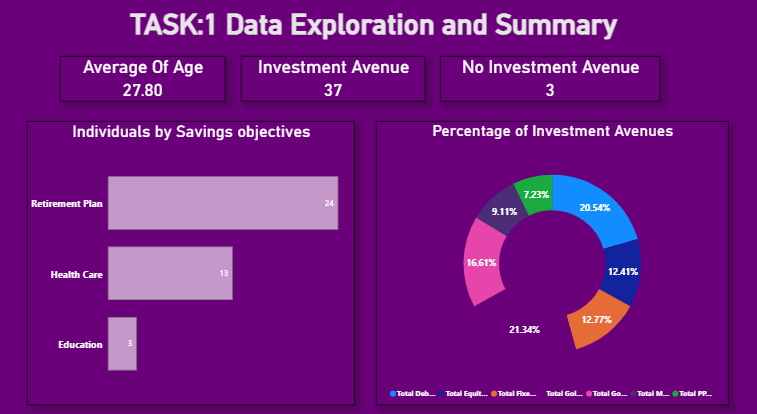

The page's visual inventory and layout, read from the dashboard file:
{"tool":"powerbi","page":{"name":"Task 1","canvas":[1290,710],"ordinal":0},"visuals":[{"type":"card","title":"Average Of Age","fields":{"Values":["Data_set 2.Average Age"]},"box":[110.4,97.8,279.5,76.9],"z":0},{"type":"textbox","title":"TASK:1 Data Exploration and Summary","box":[22.4,15.4,1238.3,62.9],"z":1000},{"type":"card","title":"Investment Avenue","fields":{"Values":["Data_set 2.Investment Avenue"]},"box":[416.5,97.8,311.7,76.9],"z":2000},{"type":"card","title":"No Investment Avenue","fields":{"Values":["Data_set 2.No Investment Avenue"]},"box":[753.3,97.8,373.2,76.9],"z":3000},{"type":"clusteredBarChart","fields":{"Category":["Data_set 2.What are your savings objectives?"],"Y":["CountNonNull(Data_set 2.gender)"]},"box":[54.5,208.2,554.9,480.8],"z":4000},{"type":"donutChart","title":"Percentage of Investment Avenues","fields":{"Y":["Data_set 2.Total Debentures","Data_set 2.Total Equity Market","Data_set 2.Total Fixed Deposits","Data_set 2.Total Gold","Data_set 2.Total Government Bonds","Data_set 2.Total Mutual Funds","Data_set 2.Total PPF investments"]},"box":[644.3,208.2,596.8,480.8],"z":5001}]}

Visuals, with their boxes in screenshot pixels (x1, y1, x2, y2), scaled from the page's 1290x710 canvas onto the 757x414 screenshot:
"Average Of Age" card: box=[65, 57, 229, 102]
"TASK:1 Data Exploration and Summary" textbox: box=[13, 9, 740, 46]
"Investment Avenue" card: box=[244, 57, 427, 102]
"No Investment Avenue" card: box=[442, 57, 661, 102]
clusteredBarChart - Data_set 2.What are your savings objectives? x CountNonNull(Data_set 2.gender): box=[32, 121, 358, 402]
"Percentage of Investment Avenues" donutChart: box=[378, 121, 728, 402]
